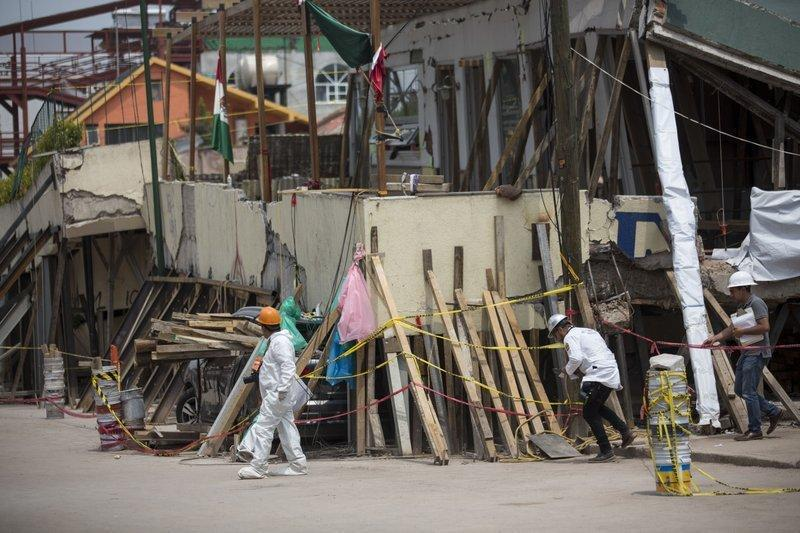destroyed: (127, 9, 694, 491)
